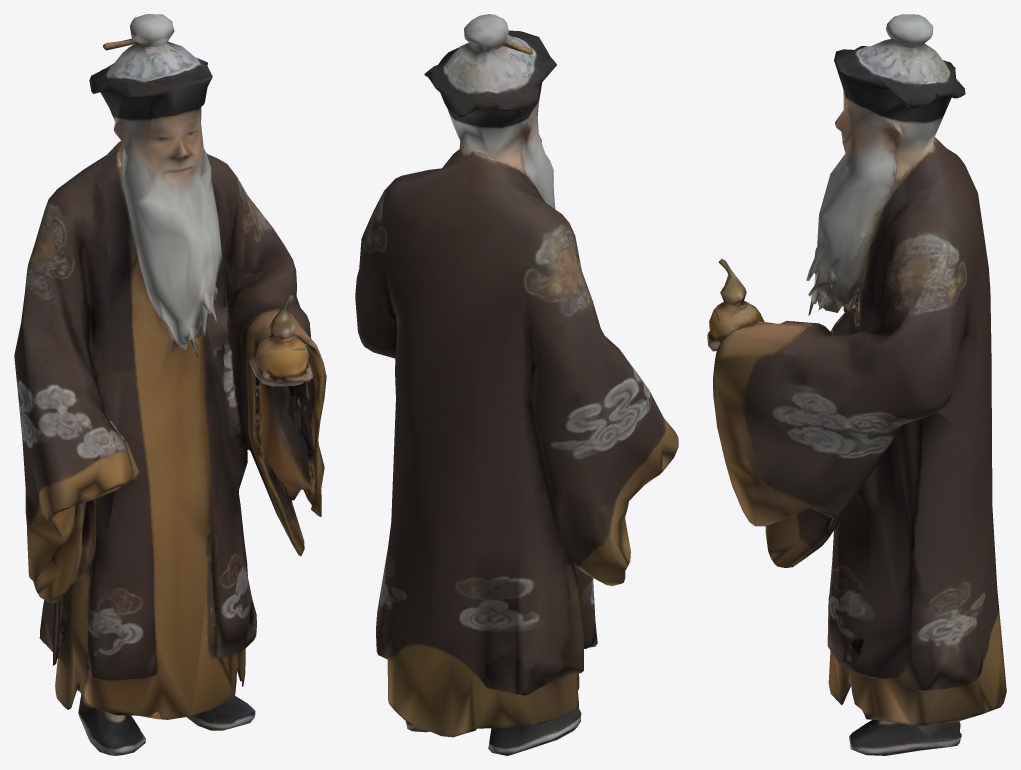
Rendered from character.glb.
3 views of the same model, side by side, from view 1: azimuth 30°, elevation 25°; view 2: azimuth 150°, elevation 25°; view 3: azimuth 270°, elevation 25° (orthographic).
Parts seen in each view (by area): view 1: Mesh1.0; view 2: Mesh1.0; view 3: Mesh1.0.
Part boxes in pixels (box(x1,y1,x2,y2)): Mesh1.0: box(14, 14, 326, 755); Mesh1.0: box(355, 14, 678, 755); Mesh1.0: box(707, 14, 1006, 755).
Size of the model in its own units: 0.8207 by 2 by 0.7747.
1 material, 1 textured.
